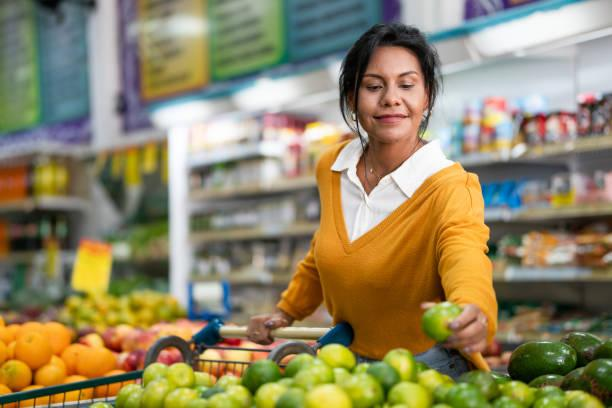Person: (248, 24, 497, 377)
article: (16, 331, 52, 370), (382, 349, 416, 380), (165, 362, 194, 387), (577, 95, 594, 136)
